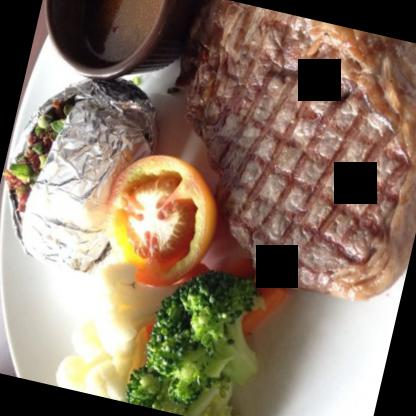beef: (131, 0, 415, 310)
broccoli: (127, 259, 283, 415)
tomato: (92, 144, 228, 294)
